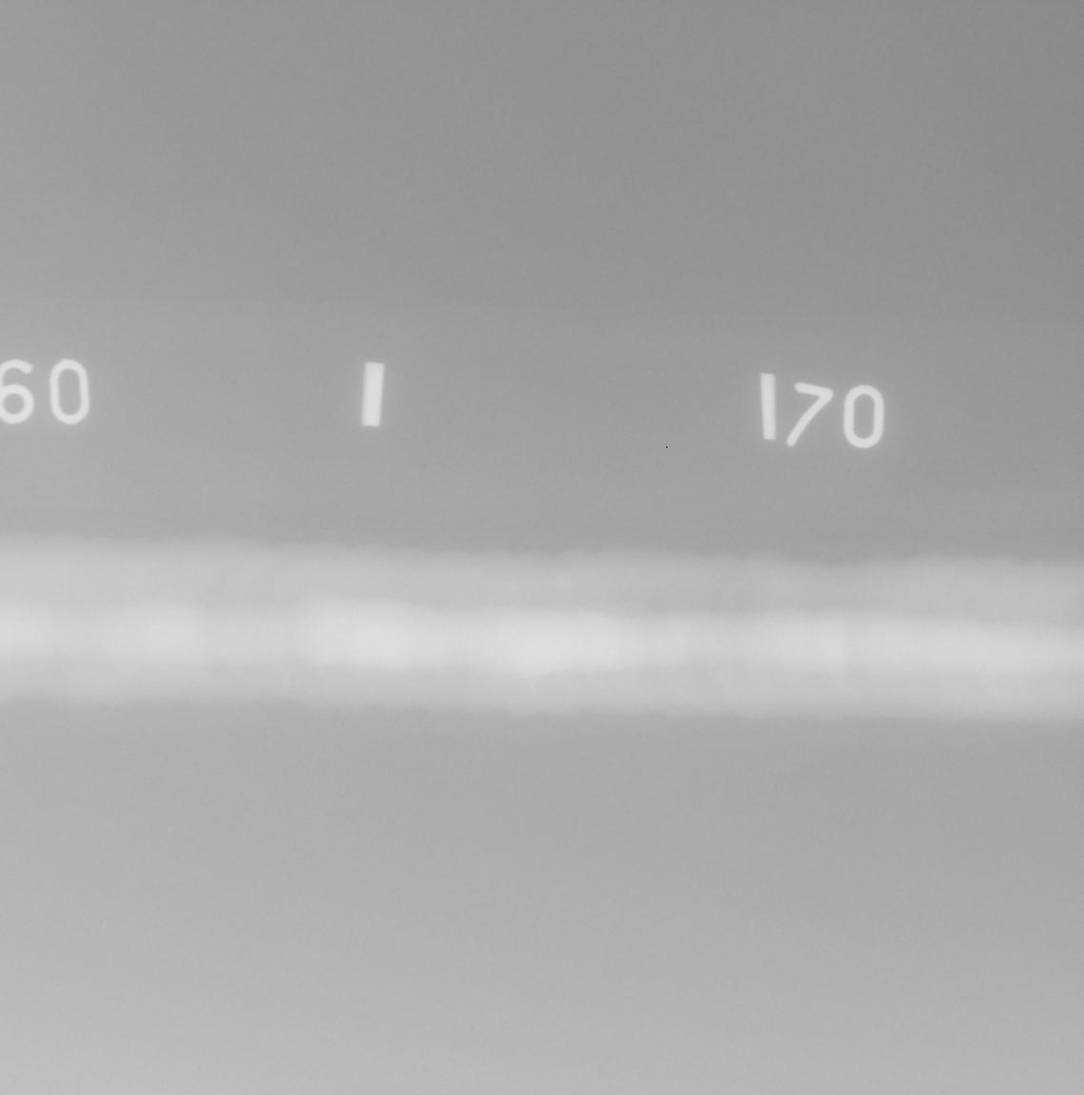Pore/Porosity: (1036, 635, 1042, 640), (1051, 621, 1054, 624)
